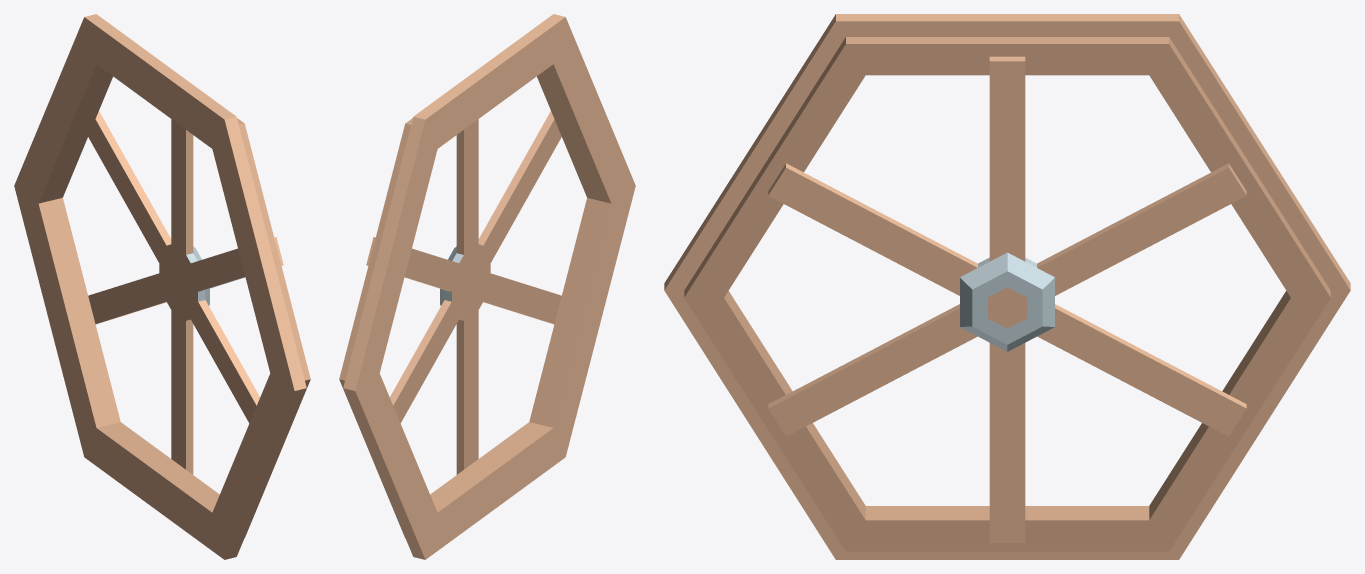
Rendered from Spinner.glb.
3 views of the same model, side by side, from view 1: azimuth 30°, elevation 25°; view 2: azimuth 150°, elevation 25°; view 3: azimuth 270°, elevation 25° (orthographic). The views are drawn at different scales.
Visible parts, largest first — view 1: watermill; view 2: watermill; view 3: watermill.
Boxes of the visible parts, box(x1,y1,x2,y2) form: watermill: box(14, 14, 310, 559); watermill: box(339, 14, 635, 559); watermill: box(664, 14, 1350, 559).
Bounding box in the file's own units: 0.17 × 1.73 × 2.
